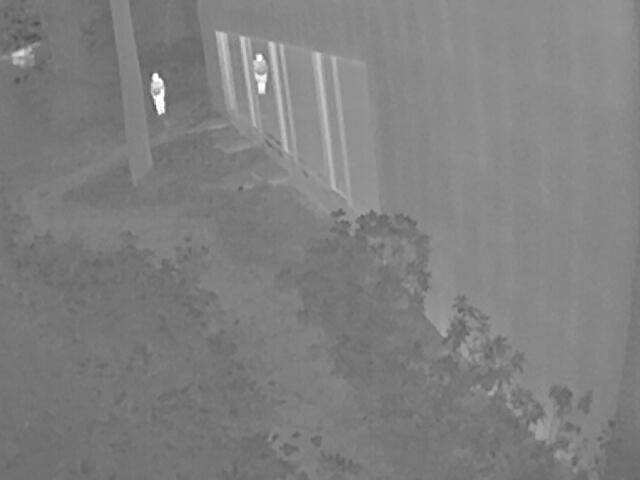person: (148, 71, 164, 115), (252, 52, 266, 95)
